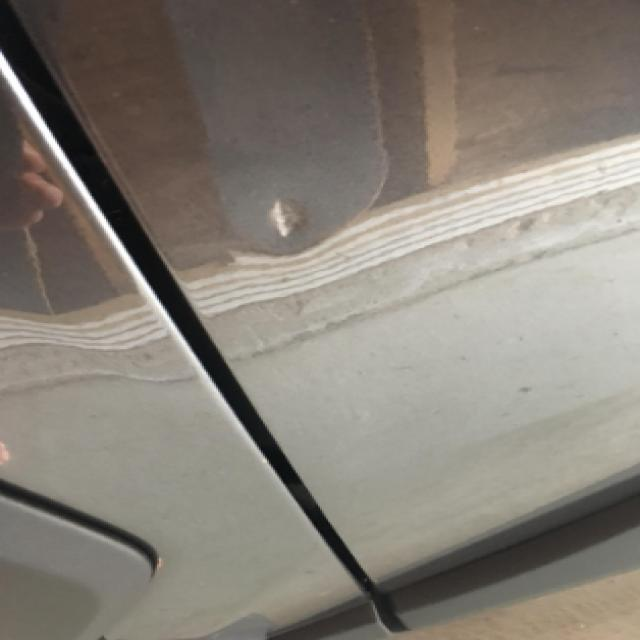dents: (234, 178, 335, 272)
